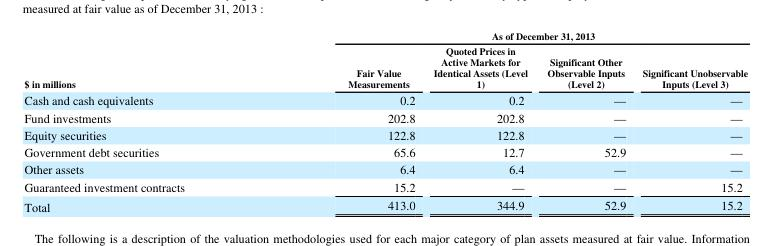table: (23, 28, 747, 214)
table column: (23, 28, 265, 214), (265, 28, 423, 214), (633, 28, 747, 214), (423, 28, 536, 214), (536, 28, 633, 214)
table column header: (23, 28, 747, 91)
table row: (23, 43, 747, 91), (23, 195, 747, 214), (23, 142, 747, 160), (23, 177, 747, 195), (23, 91, 747, 108), (23, 108, 747, 125), (23, 125, 747, 142), (23, 160, 747, 177), (23, 28, 747, 43)
table spanning cell: (23, 28, 265, 91), (265, 28, 747, 43)
